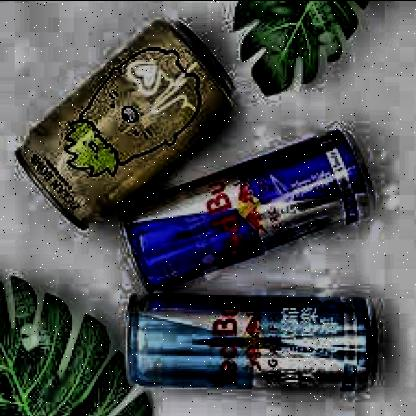Can: (10, 13, 242, 235), (109, 122, 387, 298), (122, 288, 387, 396)
